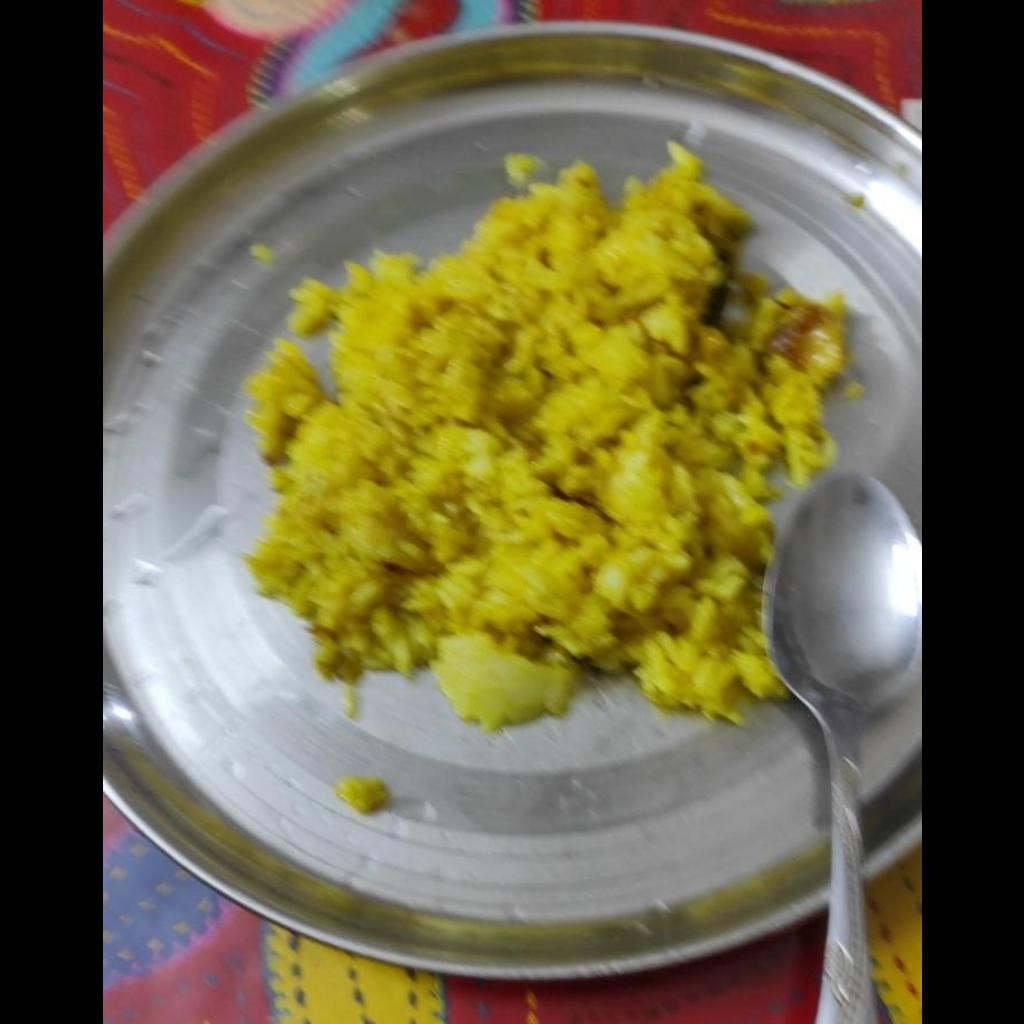khichuri: (249, 140, 839, 724)
